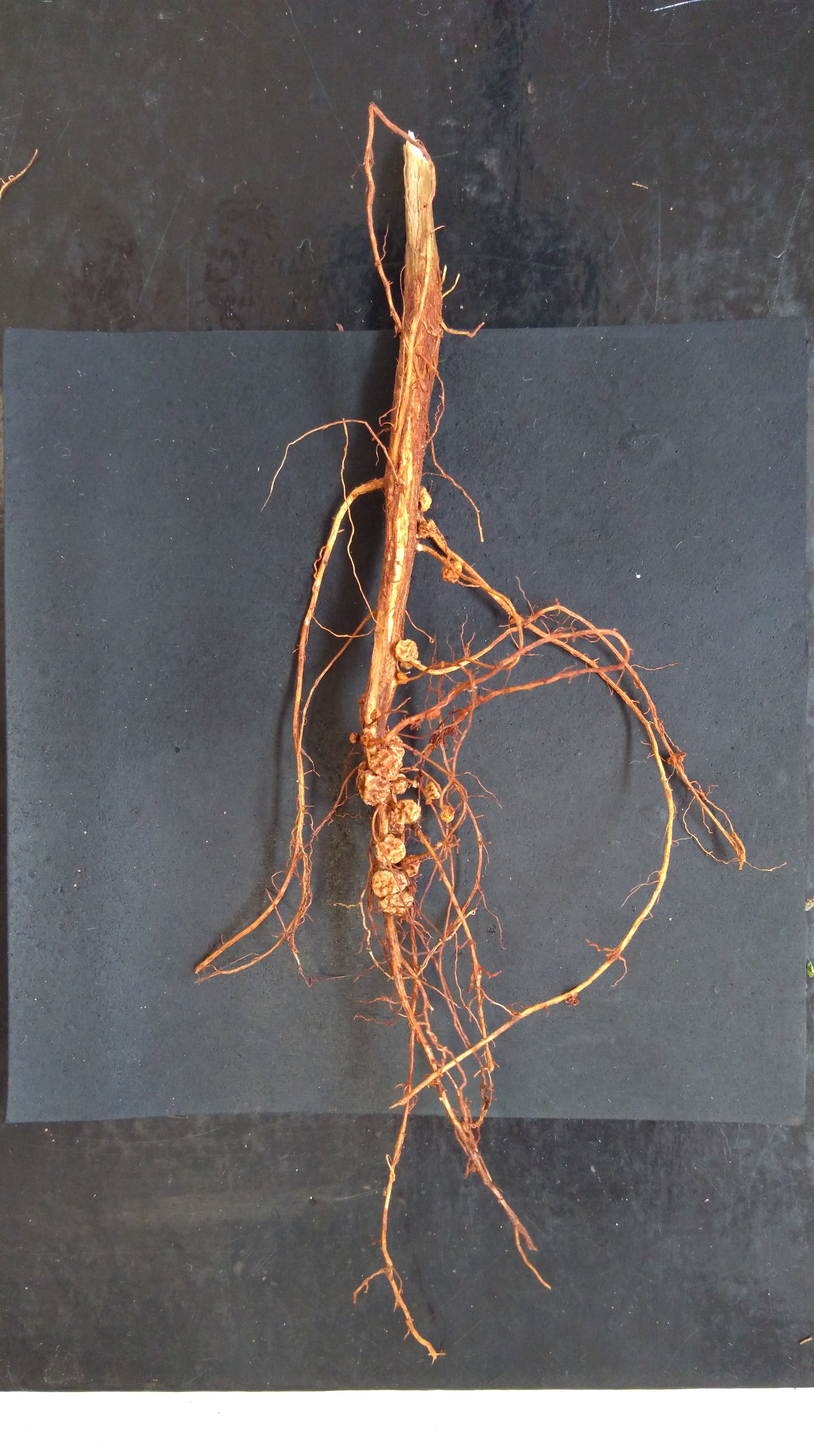nodule: (368, 733, 406, 781), (353, 767, 391, 808), (374, 889, 416, 917), (372, 833, 407, 865), (370, 869, 407, 898), (391, 798, 422, 827), (394, 637, 420, 670), (440, 558, 464, 583), (399, 853, 421, 878), (416, 484, 434, 514), (390, 772, 410, 796), (416, 518, 437, 540), (422, 780, 441, 800), (439, 806, 456, 823), (360, 732, 375, 747), (395, 671, 409, 686), (348, 731, 360, 745)
